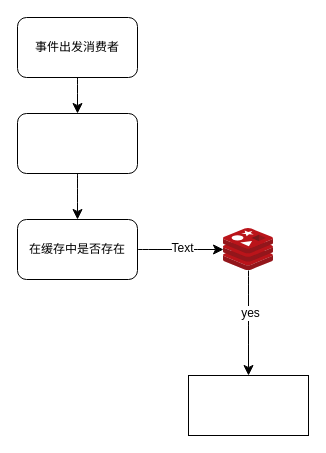
Image size: 326x453. Some labels were removed from this diagram. Here are the shapes that lost their labels. From the top down, the centre of each, then its label:
At [77,143]: "获取事件key".
At [248,405]: "执行对应的方法".
